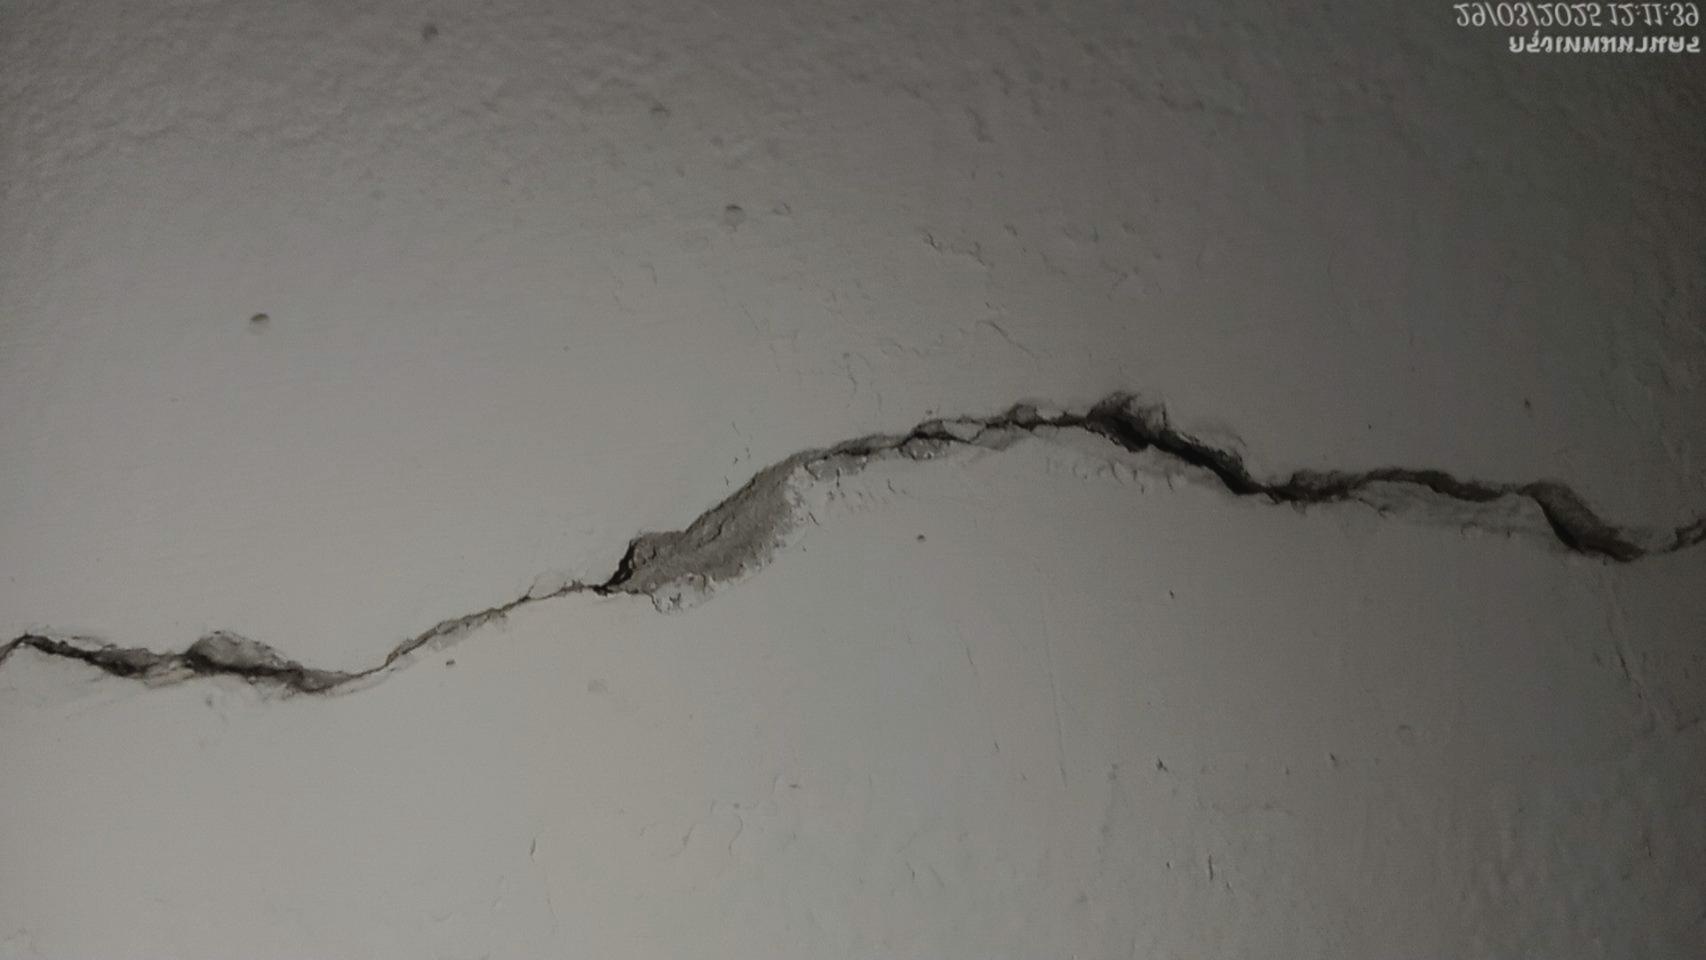High: (12, 367, 1699, 727)
